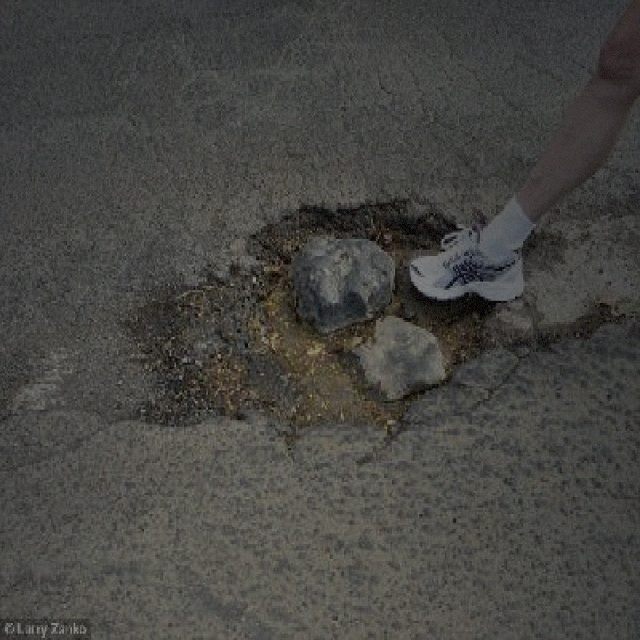pothole: (119, 194, 498, 435)
